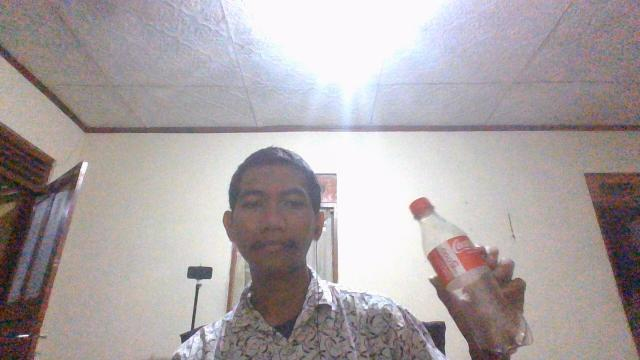coca-cola: (407, 195, 533, 356)
